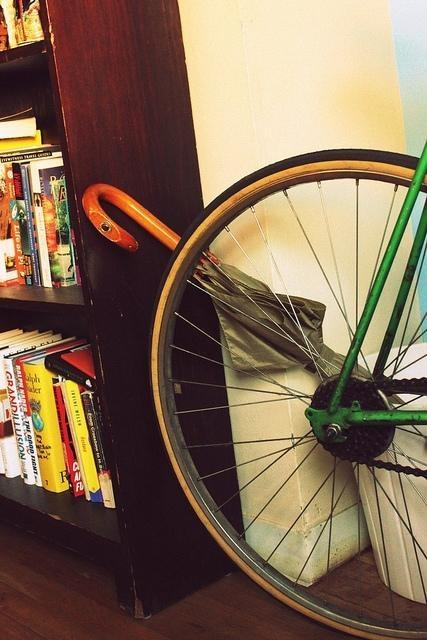bicycle: (152, 144, 426, 632)
